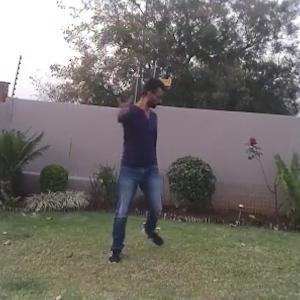takeoff-hand: (110, 89, 137, 118)
